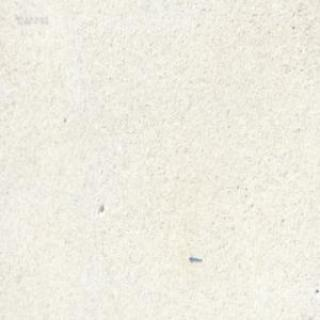Nailtrack_idkeyframe: (188, 252, 201, 260)
